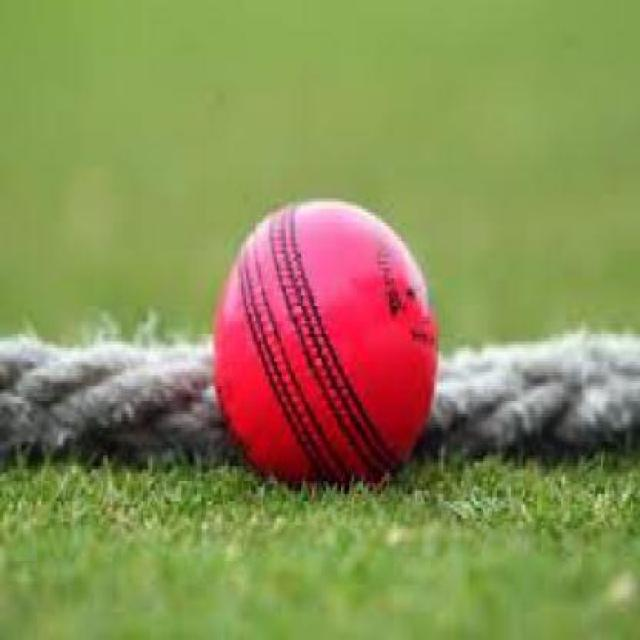ball: (199, 168, 450, 491)
